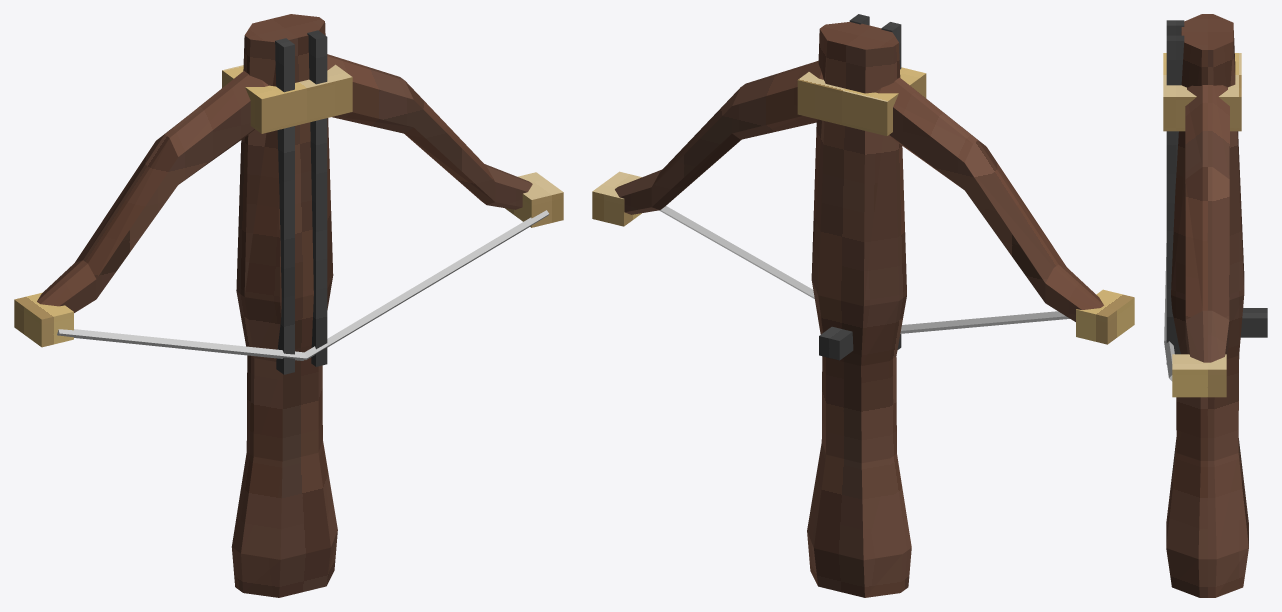
File: cutout.obj
3 renders of one model, left to right at view 1: azimuth 30°, elevation 25°; view 2: azimuth 150°, elevation 25°; view 3: azimuth 270°, elevation 25°, orthographic.
Size of the model in its own units: 1.18 by 1.19 by 0.2062.
